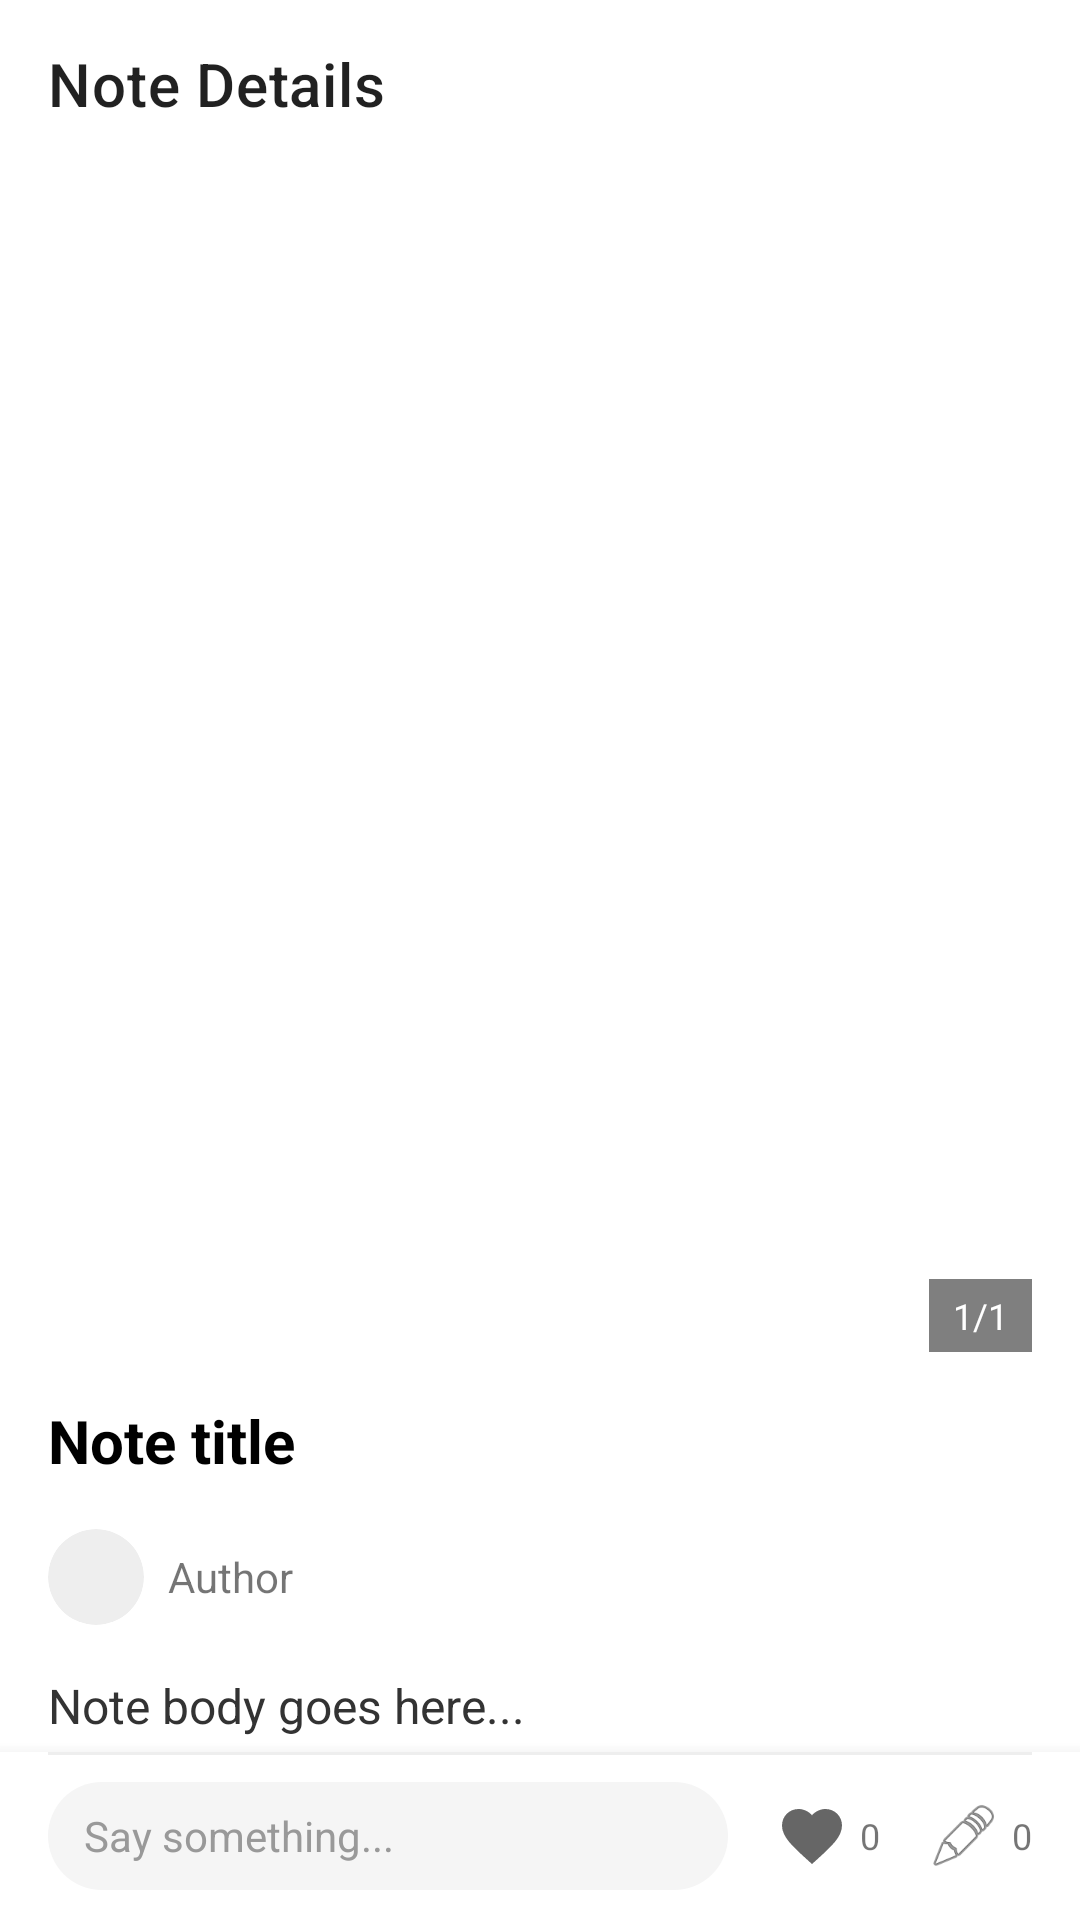

Where icons sit on this 1080px x 1920px app screen, as (x1, y1, x2, y2):
edit: (933, 1805, 994, 1866)
like: (782, 1809, 842, 1864)
